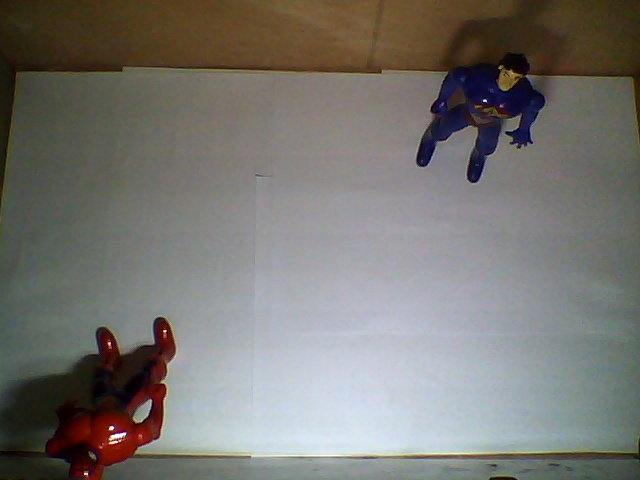human_figure: (46, 316, 176, 479), (416, 52, 546, 183)
